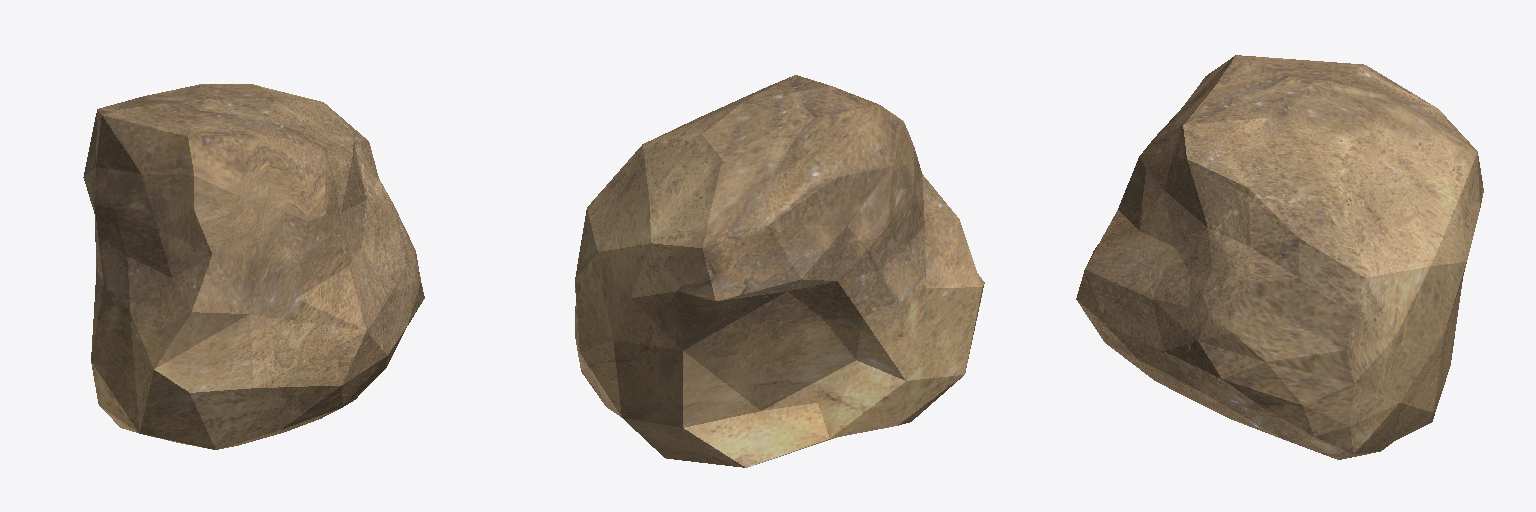
3 views of the same model, side by side, from view 1: azimuth 30°, elevation 25°; view 2: azimuth 150°, elevation 25°; view 3: azimuth 270°, elevation 25° (orthographic).
Parts seen in each view (by area): view 1: rock_low_poly_03_rock-sculpt-brushes-dyntopo.004; view 2: rock_low_poly_03_rock-sculpt-brushes-dyntopo.004; view 3: rock_low_poly_03_rock-sculpt-brushes-dyntopo.004.
Part boxes in pixels (left/top/right/bottom): rock_low_poly_03_rock-sculpt-brushes-dyntopo.004: left=83, top=84, right=424, bottom=449; rock_low_poly_03_rock-sculpt-brushes-dyntopo.004: left=575, top=75, right=984, bottom=467; rock_low_poly_03_rock-sculpt-brushes-dyntopo.004: left=1076, top=55, right=1483, bottom=459.
Size of the model in its own units: 1.31 by 1.25 by 1.47.
1 materials, 1 textured.